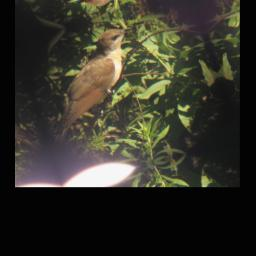Cuckoo: (22, 23, 163, 150)
